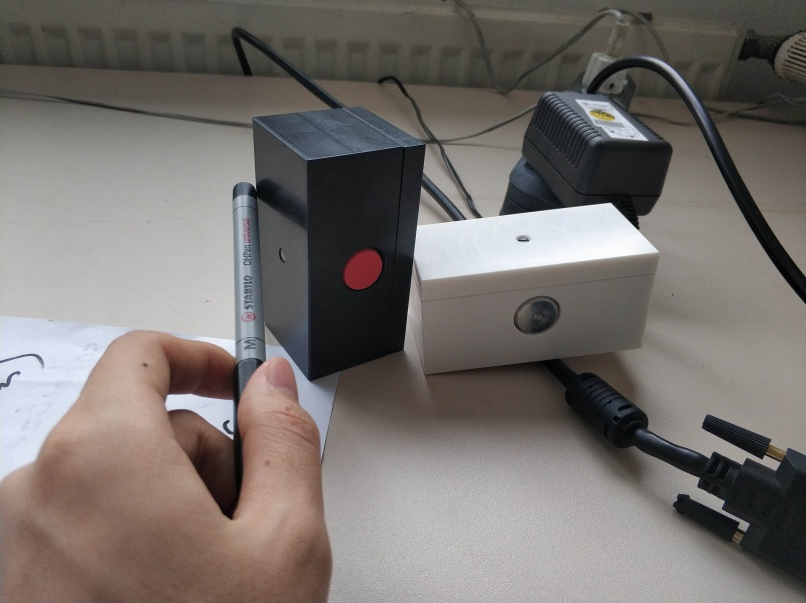black+black+red: (251, 103, 429, 387)
white+white+silver: (409, 199, 663, 380)
